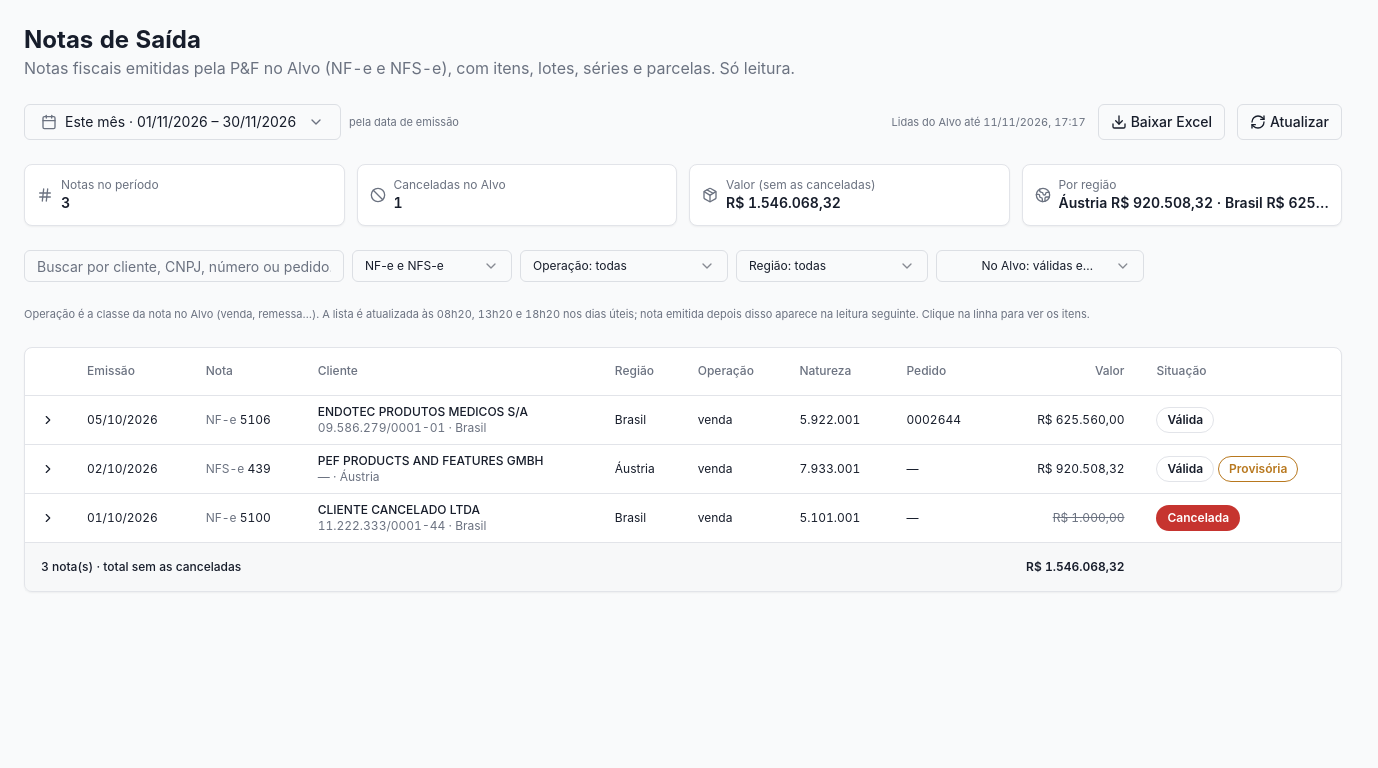
Scenario: Vendas › Notas de Saída › clicar na nota abre itens, lote, séries e parcelas
Step 1. Click the 2nd row → point(683, 420), box x1=25 y1=396 x2=1341 y2=444
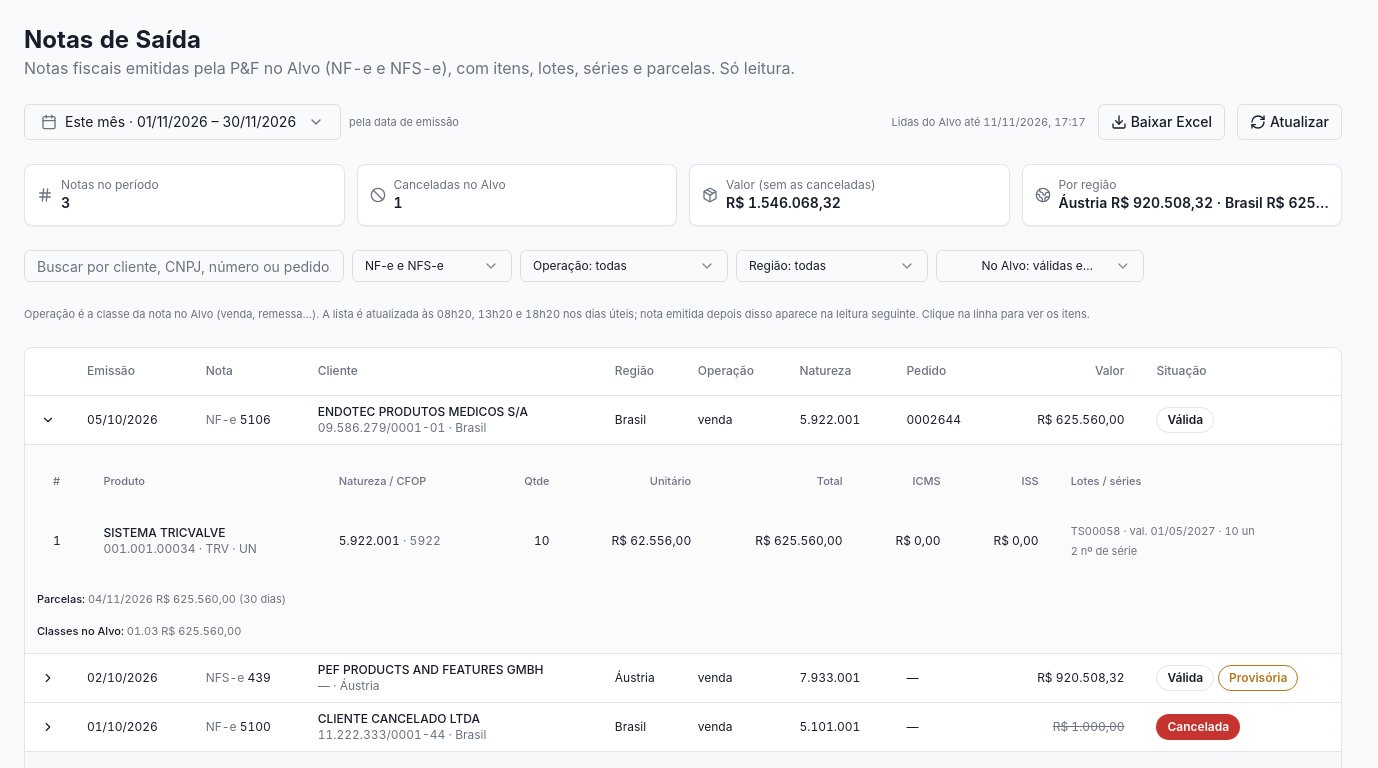
Expected: the text "SISTEMA TRICVALVE" is shown, x1=104 y1=525 x2=226 y2=540
Expected: the text "TS00058" is shown, x1=1071 y1=524 x2=1255 y2=538
Expected: the text "2 nº de série" is shown, x1=1071 y1=544 x2=1137 y2=558
